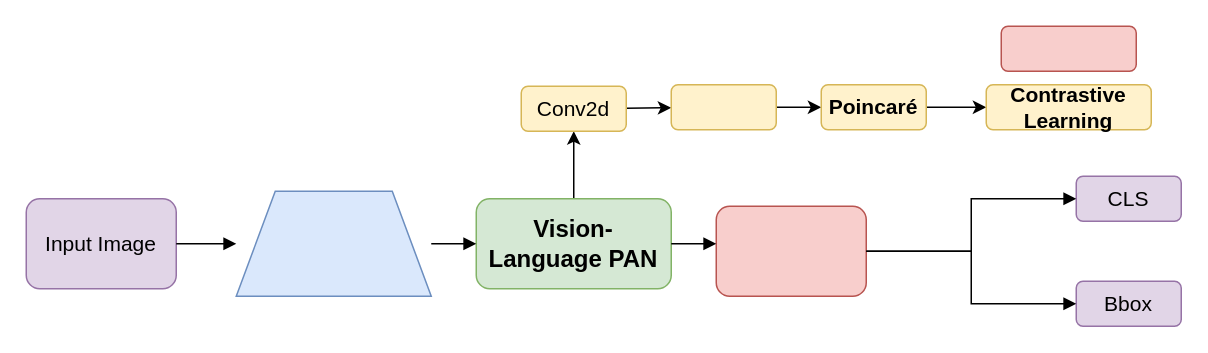
This 1208x353 diagram has some shape labels left out. The box of each missing label's shape, as (x1, y1, x2, y2) in pixels:
BatchNorm: (670, 83, 776, 130)
Head: (715, 205, 866, 296)
Image Encoder: (235, 190, 431, 296)
OOD-ness: (1000, 25, 1136, 71)
